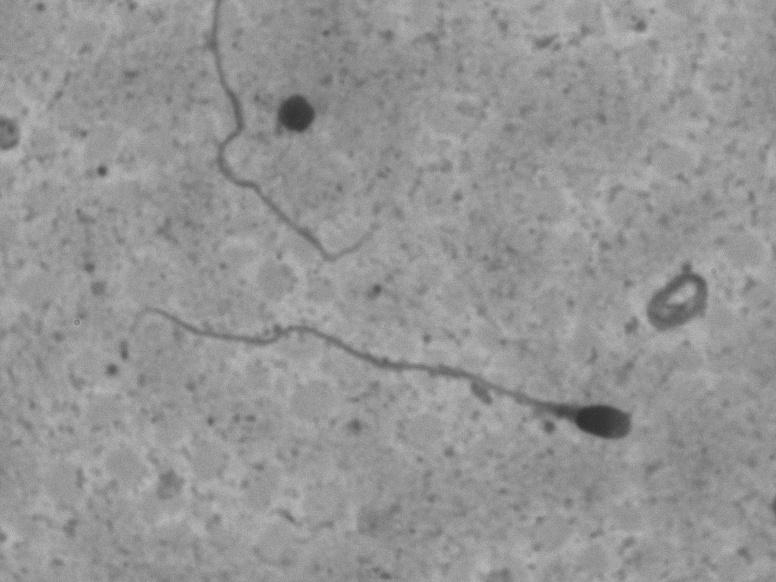Normal: (117, 284, 633, 475)
